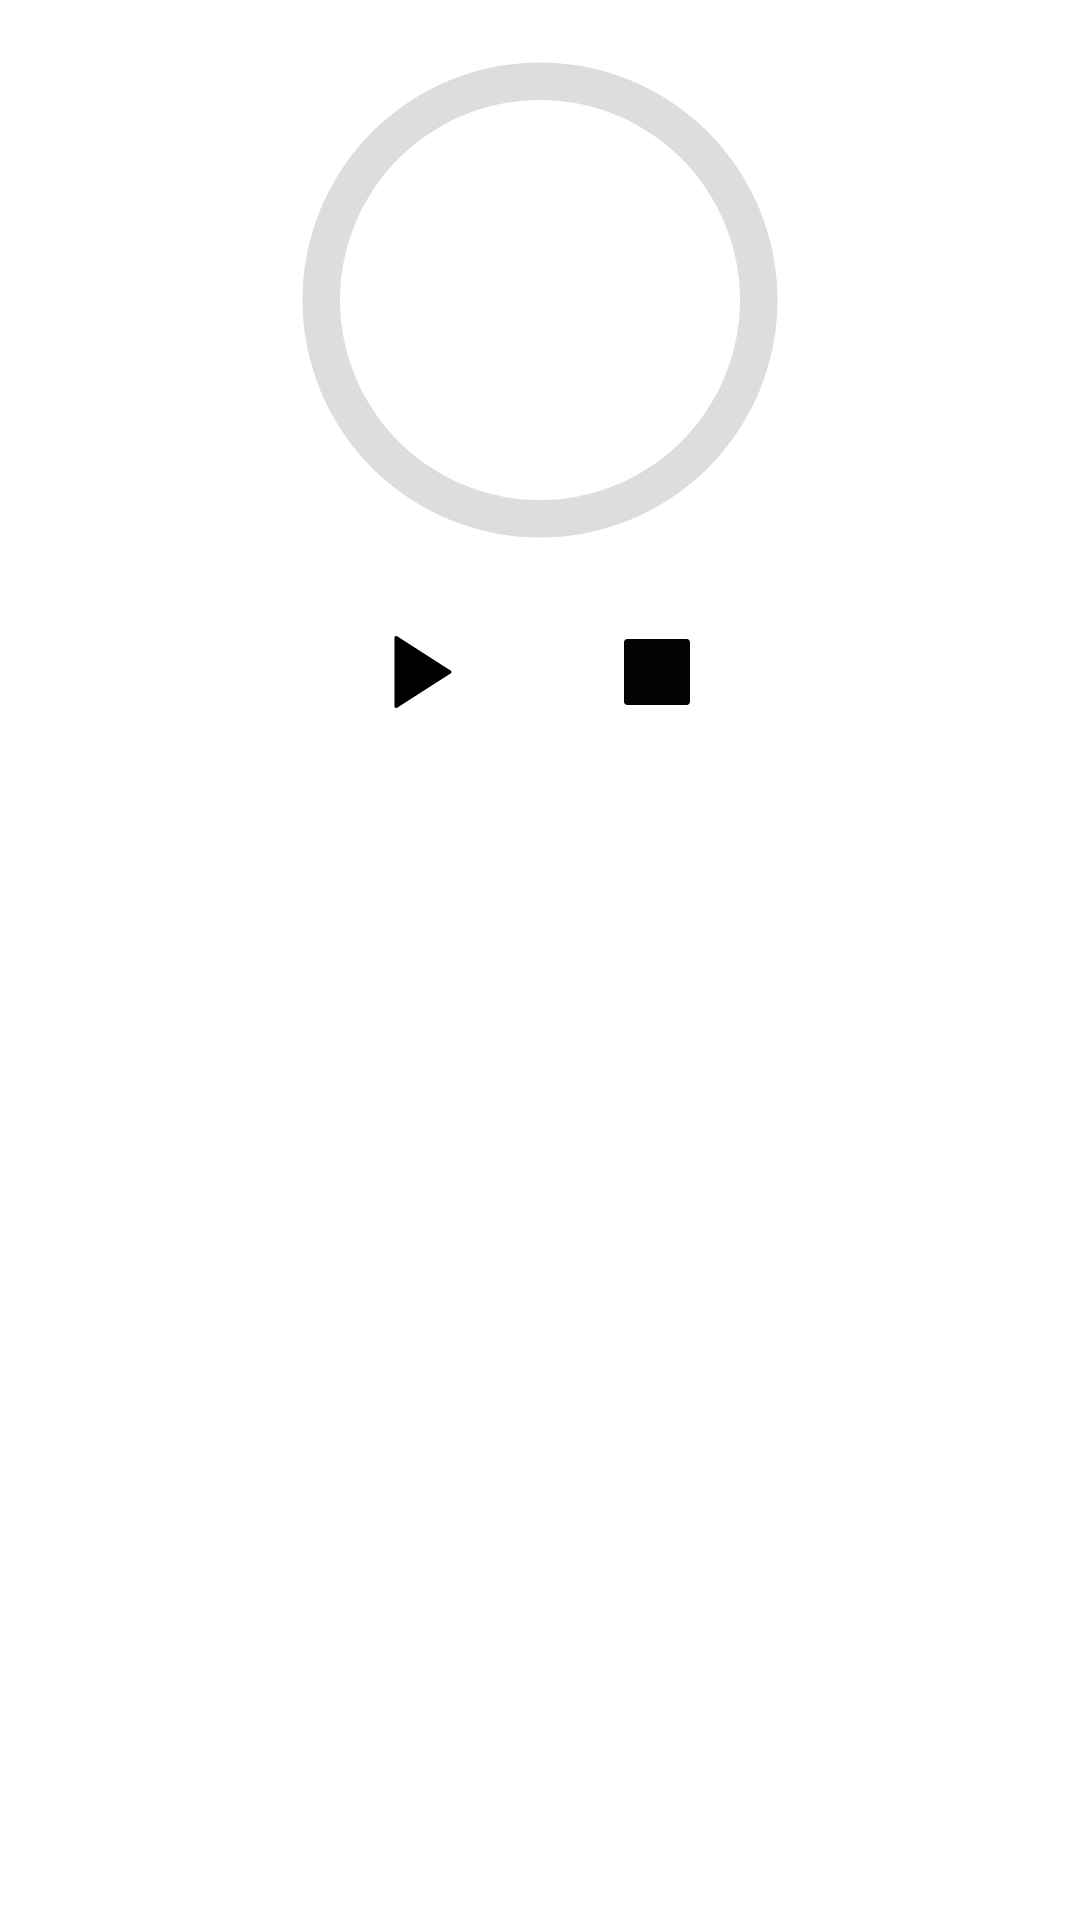

Locate icon controls on the screen. Image size 1080 x 1920, boxes as (x1, y1, x2, y2).
play: (394, 636, 452, 708)
